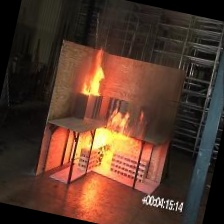fire: (74, 104, 137, 177), (78, 44, 121, 113)
